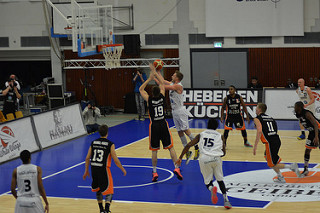basketball: (152, 59, 163, 70)
